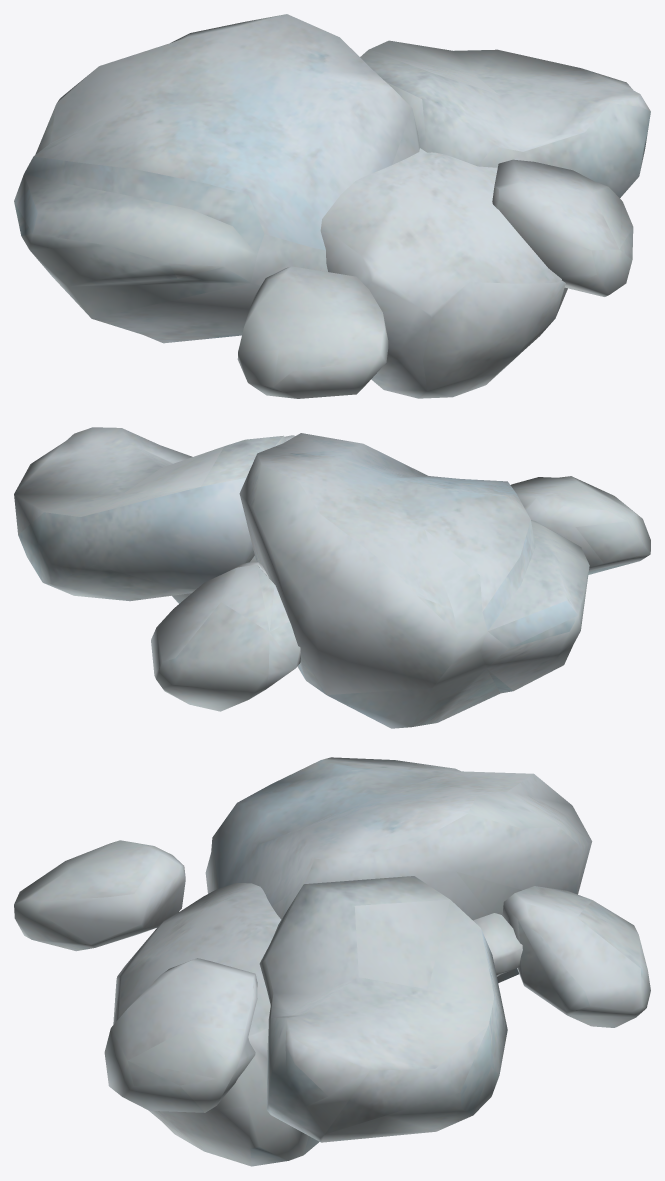
Rendered from P_RockDesert_Clump04.obj.
3 views of the same model, one above another, from view 1: azimuth 30°, elevation 25°; view 2: azimuth 150°, elevation 25°; view 3: azimuth 270°, elevation 25° (orthographic). The views are drawn at different scales.
Size of the model in its own units: 3.19 by 1.45 by 2.87.
